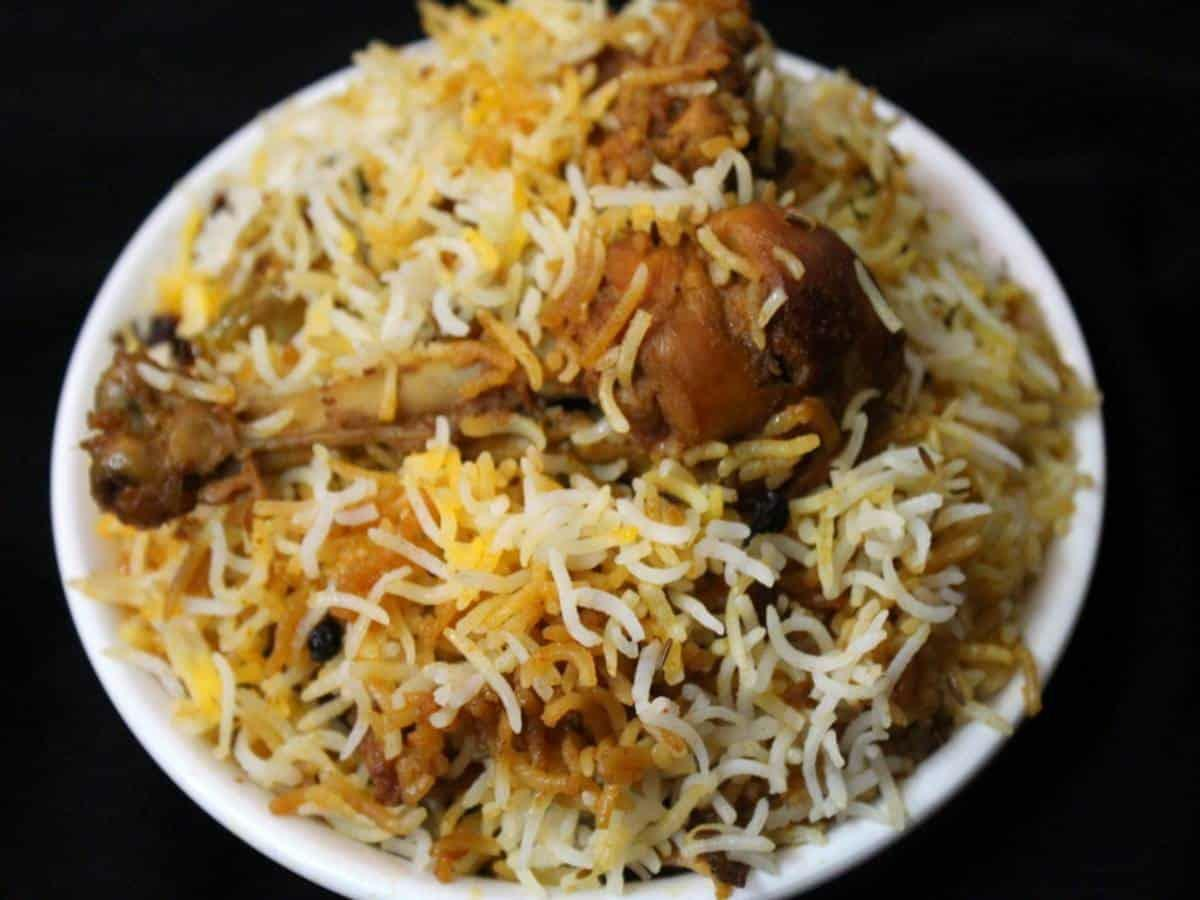Biryani: (67, 0, 1103, 900)
